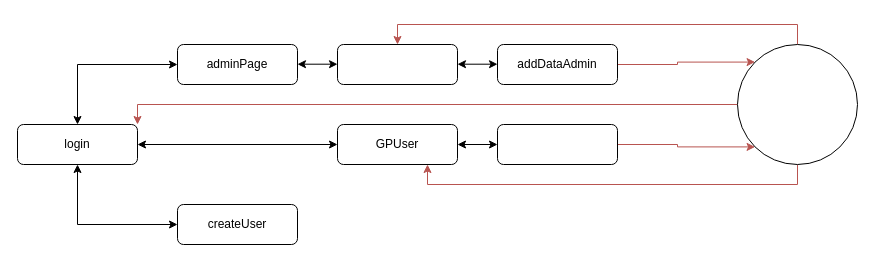
The diagram is 875 pixels wide and 262 high, and some of its shapes have lost their labels. The shapes that lost their labels are listed below. From the top down, each one's box as (x1, y1, x2, y2) in pixels, then its label:
(336, 44, 458, 84): GPAdmin
(736, 44, 858, 164): Database
(496, 124, 618, 164): addDataUser
